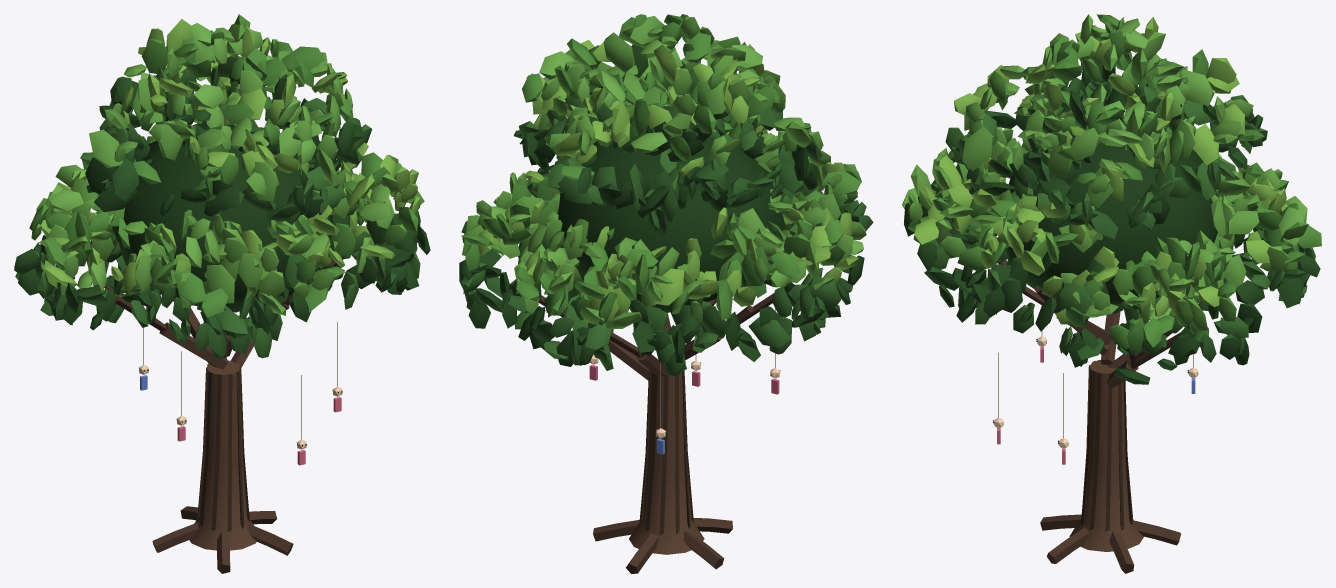
File: suburb_tree_dolls.glb
The picture shows the model from 3 angles, left to right: view 1: azimuth 30°, elevation 25°; view 2: azimuth 150°, elevation 25°; view 3: azimuth 270°, elevation 25°; orthographic projection. The views are drawn at different scales.
Visible parts, largest first — view 1: suburb_tree_dolls; view 2: suburb_tree_dolls; view 3: suburb_tree_dolls.
Part boxes in pixels (<box>): suburb_tree_dolls: <box>14,14,430,573</box>; suburb_tree_dolls: <box>459,14,873,573</box>; suburb_tree_dolls: <box>902,14,1321,573</box>.
Size of the model in its own units: 5.89 by 8.05 by 5.83.
